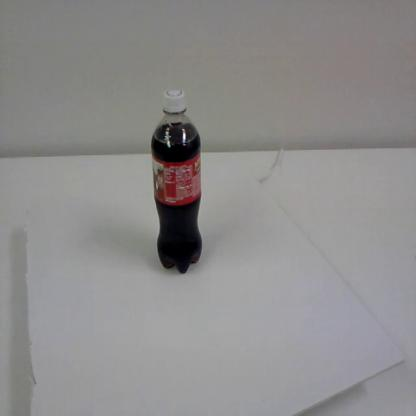bottle: (150, 86, 204, 276)
